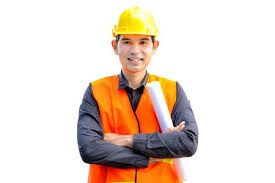Person_wearing_helmet: (105, 3, 165, 51)
